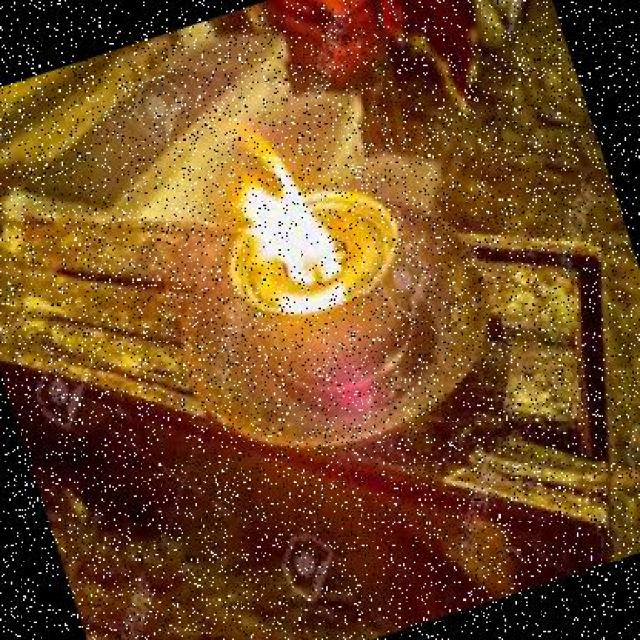fire: (223, 146, 355, 309)
